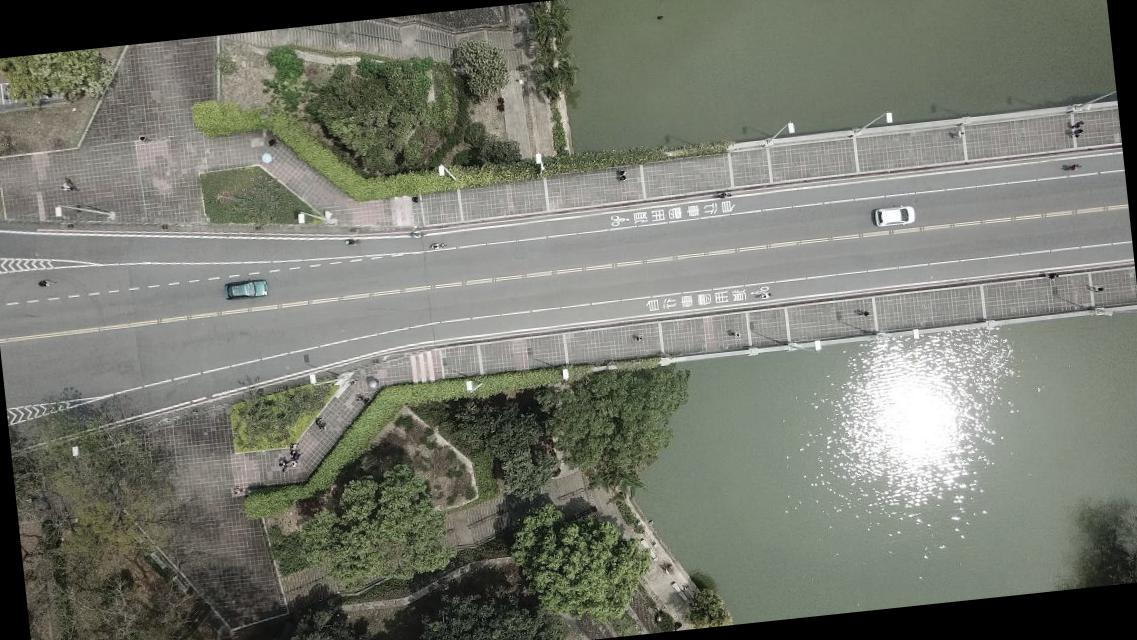vehicle: (869, 202, 918, 232), (221, 276, 271, 303)
